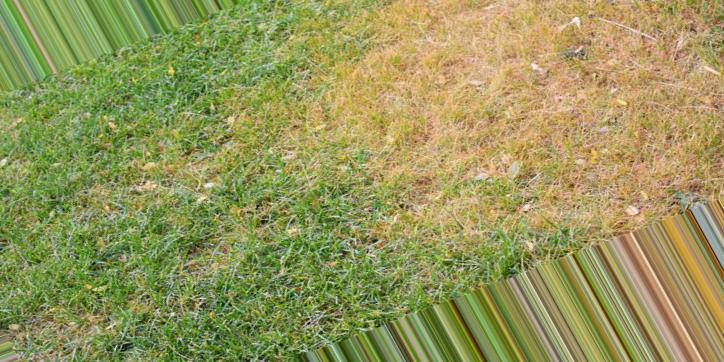patch: (561, 56, 645, 163), (346, 73, 433, 168), (375, 195, 502, 246), (455, 49, 518, 141), (655, 62, 700, 120), (451, 158, 522, 194), (534, 11, 612, 43), (538, 183, 604, 210), (522, 52, 552, 104)
